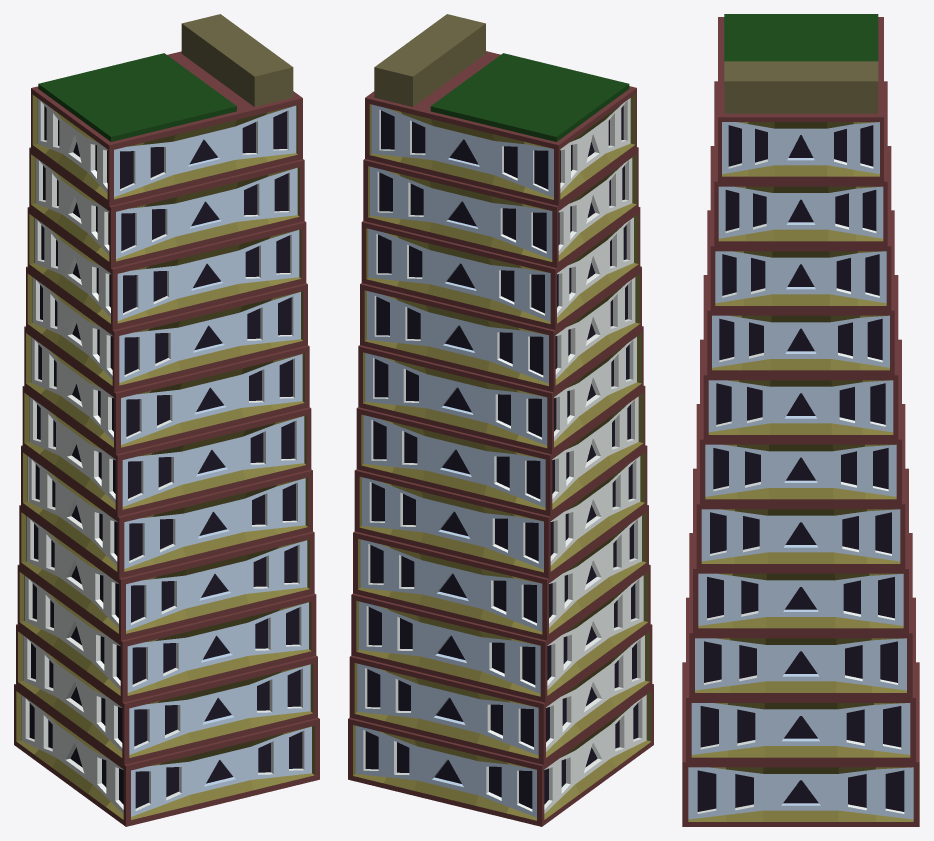
The model's file is 建物大_高レア_2.fbx.
The picture shows the model from 3 angles, left to right: view 1: azimuth 30°, elevation 25°; view 2: azimuth 150°, elevation 25°; view 3: azimuth 270°, elevation 25°; orthographic projection. The views are drawn at different scales.
Visible parts, largest first — view 1: 平面.001; view 2: 平面.001; view 3: 平面.001.
Part boxes in pixels (box(x1,y1,x2,y2)): 平面.001: box(14, 14, 319, 826); 平面.001: box(348, 14, 653, 826); 平面.001: box(682, 14, 919, 826).
Size of the model in its own units: 8.6 by 29.67 by 8.6.
